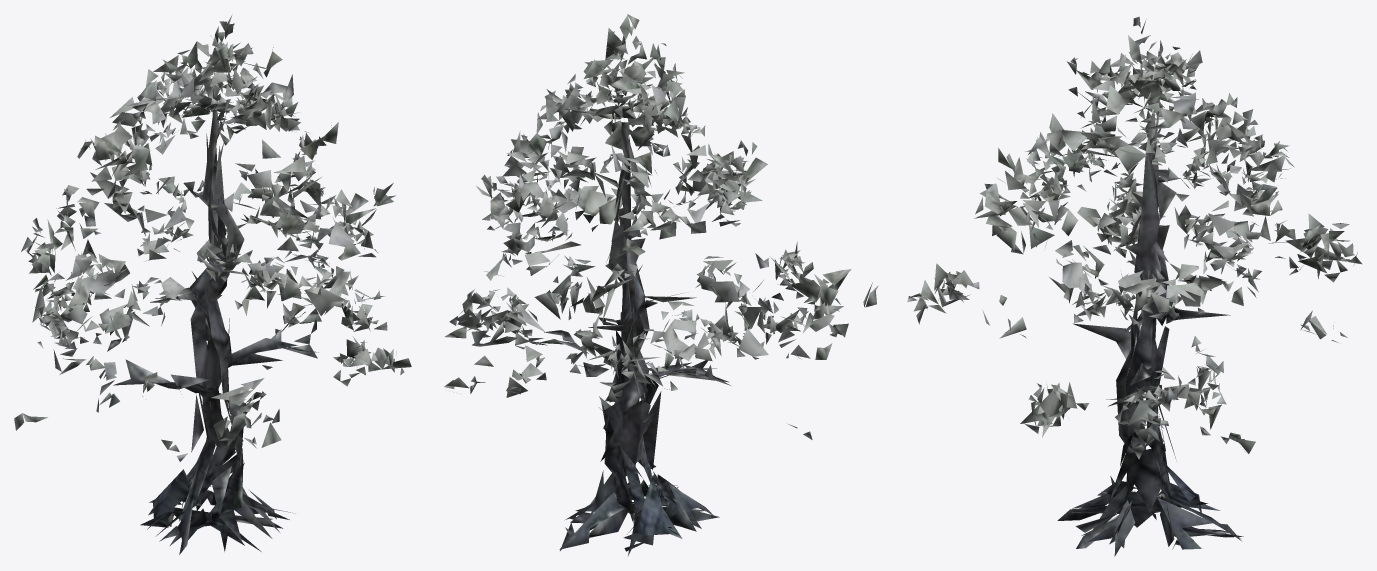
File: pinheiro_cinza_adulta-lod.glb
The picture shows the model from 3 angles, left to right: view 1: azimuth 30°, elevation 25°; view 2: azimuth 150°, elevation 25°; view 3: azimuth 270°, elevation 25°; orthographic projection. The views are drawn at different scales.
Visible parts, largest first — view 1: geometry_0; view 2: geometry_0; view 3: geometry_0.
Part boxes in pixels (x1,y1,x2,y2): geometry_0: (14,14,411,554); geometry_0: (444,14,878,555); geometry_0: (907,16,1362,556).
Bounding box in the file's own units: 0.7305 × 0.9927 × 0.7818.
Materials: 1 (1 with a texture image).
